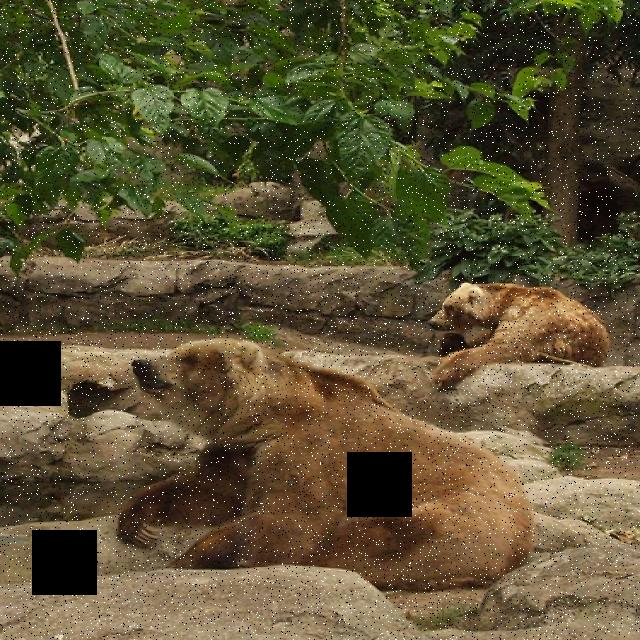Bear: (115, 334, 530, 582), (417, 278, 610, 369)
